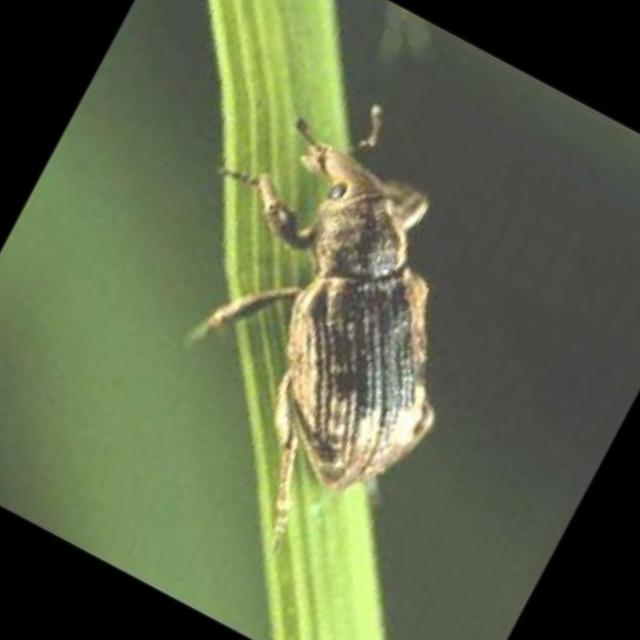rice-bug: (135, 90, 546, 540)
